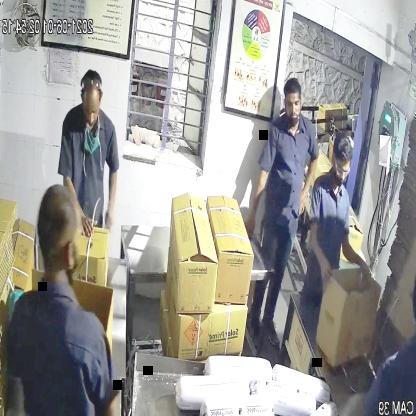goggles: (333, 158, 352, 182)
